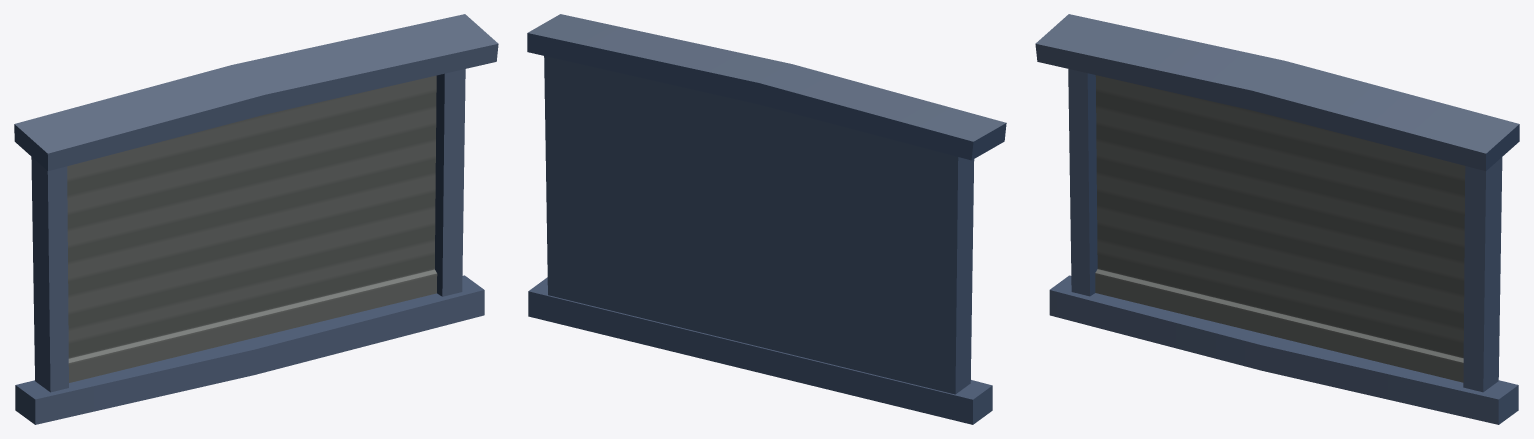
Rendered from Garage_A1.fbx.
3 renders of one model, left to right at view 1: azimuth 30°, elevation 25°; view 2: azimuth 150°, elevation 25°; view 3: azimuth 330°, elevation 25°, orthographic.
Visible parts, largest first — view 1: Garage_A1; view 2: Garage_A1; view 3: Garage_A1.
Part boxes in pixels (x1=…): Garage_A1: x1=14, y1=14, x2=498, y2=424; Garage_A1: x1=527, y1=14, x2=1006, y2=424; Garage_A1: x1=1035, y1=14, x2=1519, y2=424.
Size of the model in its own units: 554 by 344 by 73.61.
